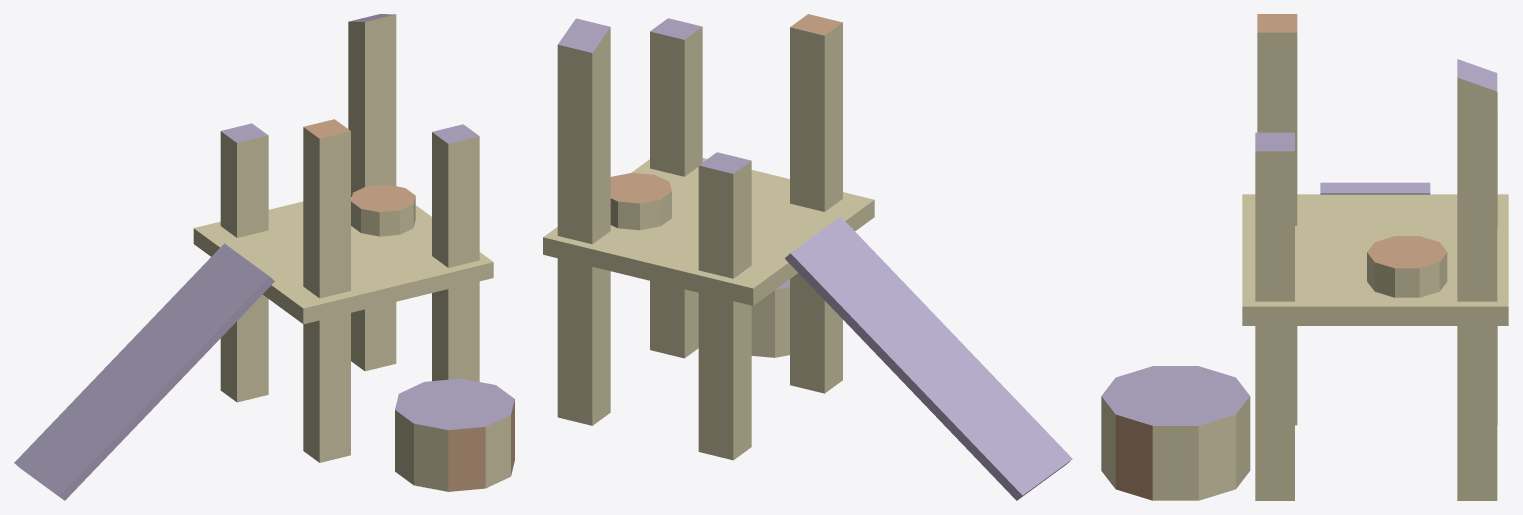
Rendered from playground.glb.
3 renders of one model, left to right at view 1: azimuth 30°, elevation 25°; view 2: azimuth 150°, elevation 25°; view 3: azimuth 270°, elevation 25°, orthographic. The views are drawn at different scales.
Parts seen in each view (by area): view 1: Cylinder.002; view 2: Cylinder.002; view 3: Cylinder.002.
Part boxes in pixels (x1,y1,x2,y2): Cylinder.002: (14, 14, 514, 500); Cylinder.002: (543, 14, 1072, 500); Cylinder.002: (1101, 14, 1508, 500).
Bounding box in the file's own units: 0.846 × 0.7091 × 0.6121.
